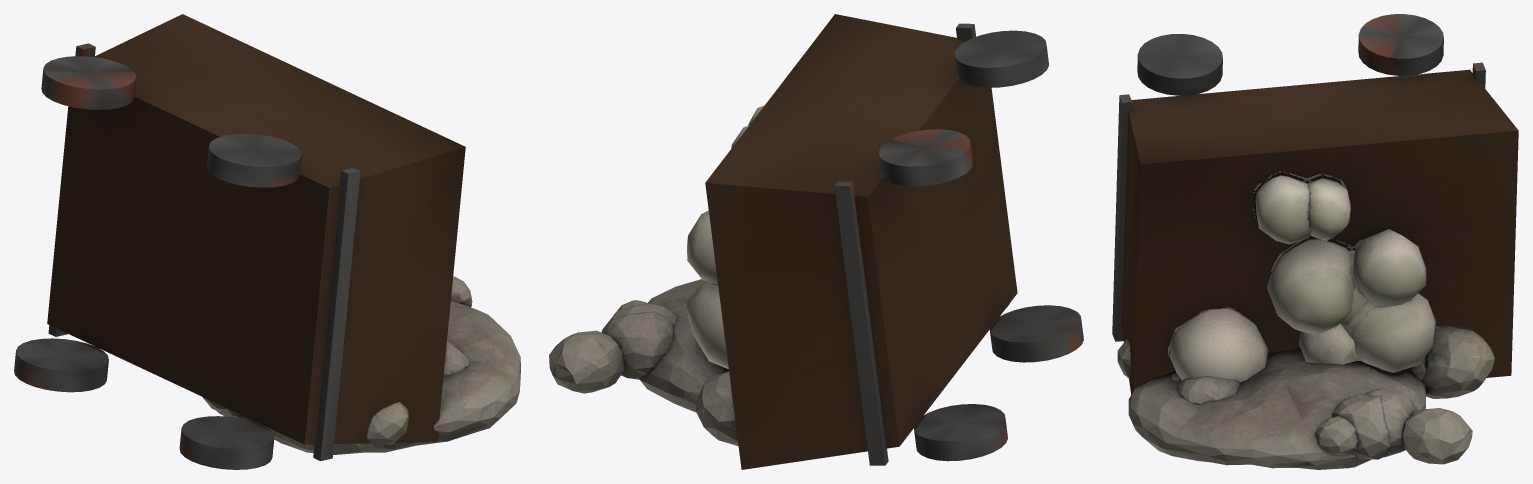
Rendered from canion_vagonete_tombado.glb.
3 views of the same model, side by side, from view 1: azimuth 30°, elevation 25°; view 2: azimuth 150°, elevation 25°; view 3: azimuth 270°, elevation 25° (orthographic). The views are drawn at different scales.
Visible parts, largest first — view 1: cenario_vagonete, canion_vagonete_tombado_tronco; view 2: cenario_vagonete, canion_vagonete_tombado_tronco; view 3: cenario_vagonete, canion_vagonete_tombado_tronco.
Boxes of the visible parts, <box> form: cenario_vagonete: <box>14,14,465,469</box>; canion_vagonete_tombado_tronco: <box>202,276,520,454</box>; cenario_vagonete: <box>686,14,1083,469</box>; canion_vagonete_tombado_tronco: <box>549,279,738,446</box>; cenario_vagonete: <box>1112,14,1518,394</box>; canion_vagonete_tombado_tronco: <box>1117,325,1494,469</box>.
Size of the model in its own units: 1.8 by 1.37 by 1.62.
2 materials, 2 textured.
